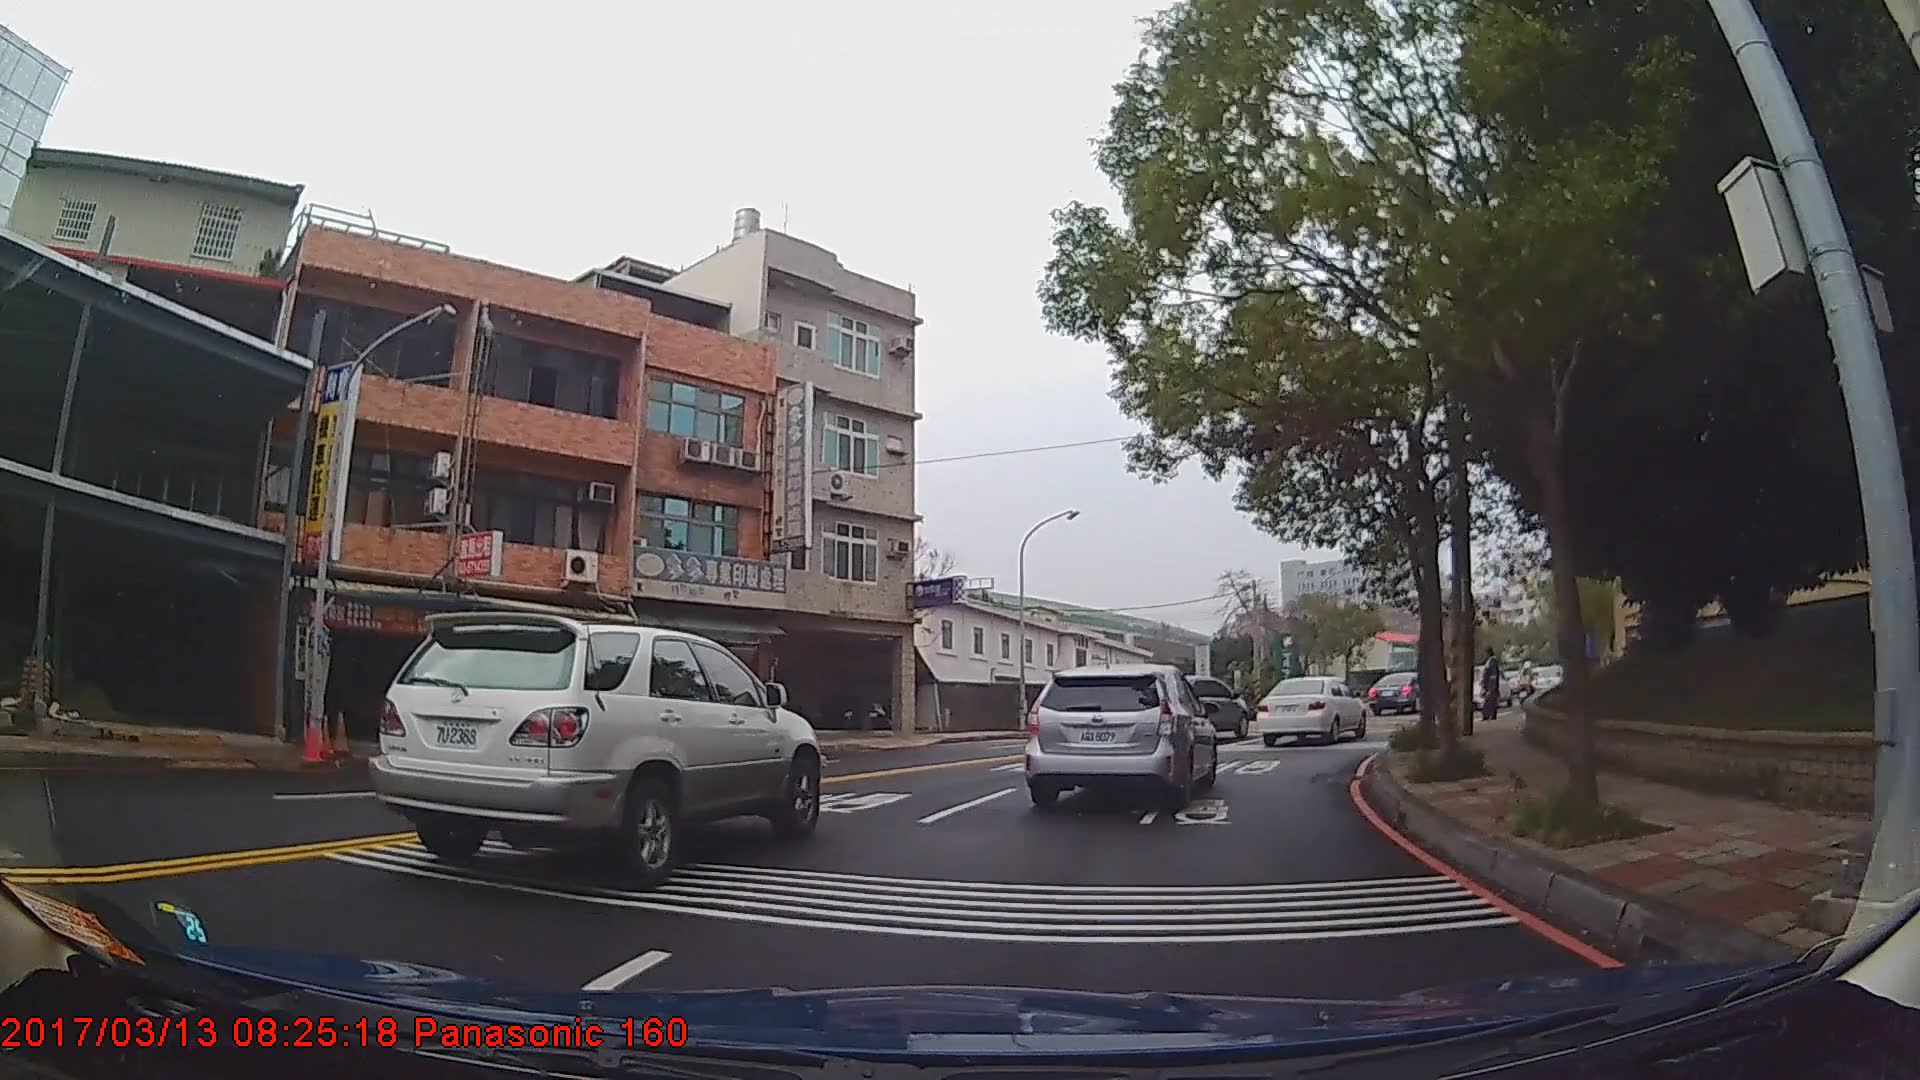vehicle: (368, 609, 824, 893), (1021, 661, 1216, 814), (1251, 673, 1365, 744), (1154, 674, 1250, 742), (1367, 667, 1437, 716)
